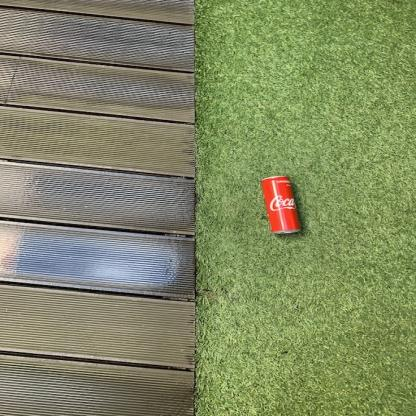Aerosols: (245, 170, 321, 237)
